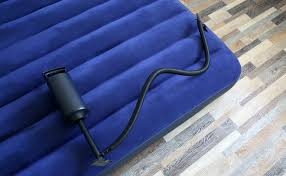bed-matress: (1, 1, 241, 174)
